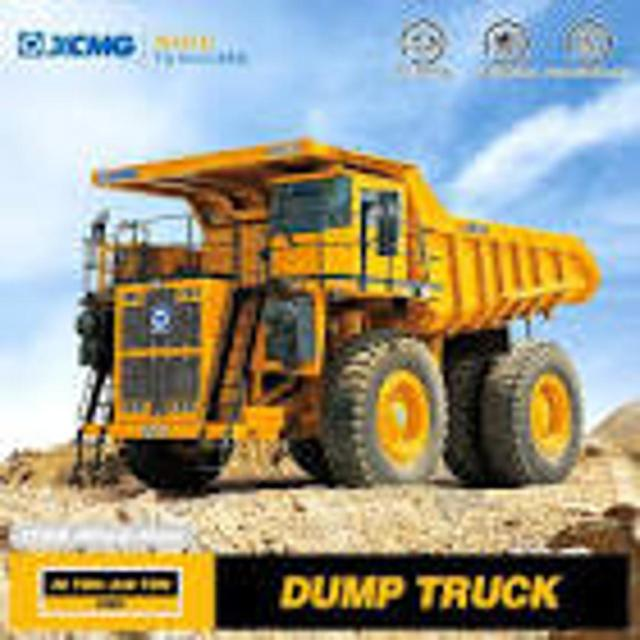dump_truck: (64, 131, 602, 497)
